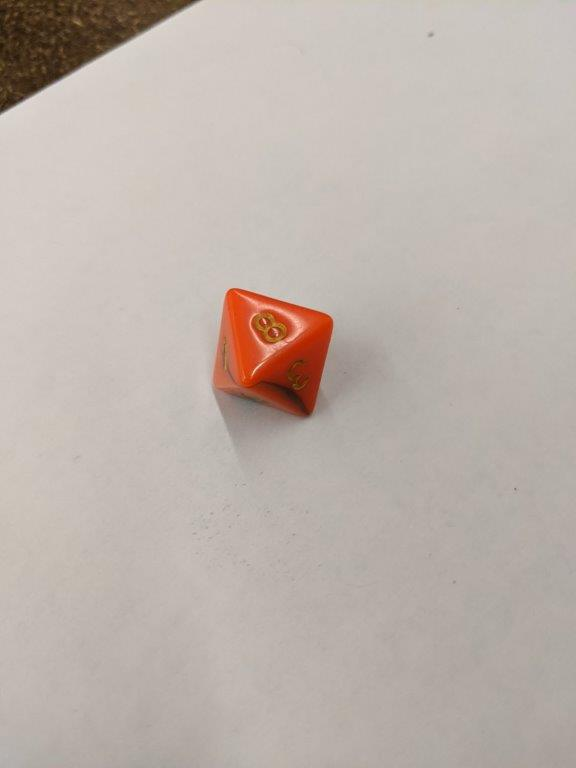d8-8: (210, 287, 334, 422)
